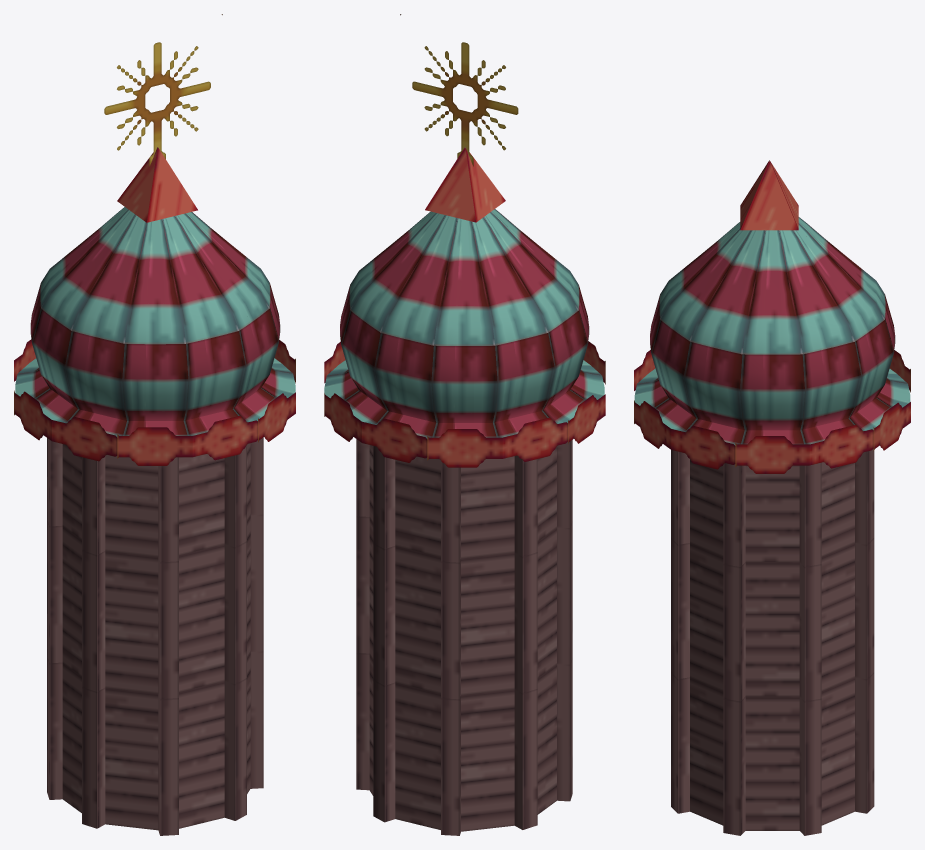
File: zwiebelturm_wood_small.fbx
The picture shows the model from 3 angles, left to right: view 1: azimuth 30°, elevation 25°; view 2: azimuth 150°, elevation 25°; view 3: azimuth 270°, elevation 25°; orthographic projection.
Parts seen in each view (by area): view 1: zwiebelturm_wood_small; view 2: zwiebelturm_wood_small; view 3: zwiebelturm_wood_small.
Boxes of the visible parts, box(x1,y1,x2,y2) form: zwiebelturm_wood_small: box(14, 14, 295, 835); zwiebelturm_wood_small: box(324, 14, 605, 835); zwiebelturm_wood_small: box(634, 160, 910, 835).
Size of the model in its own units: 187 by 556 by 187.
